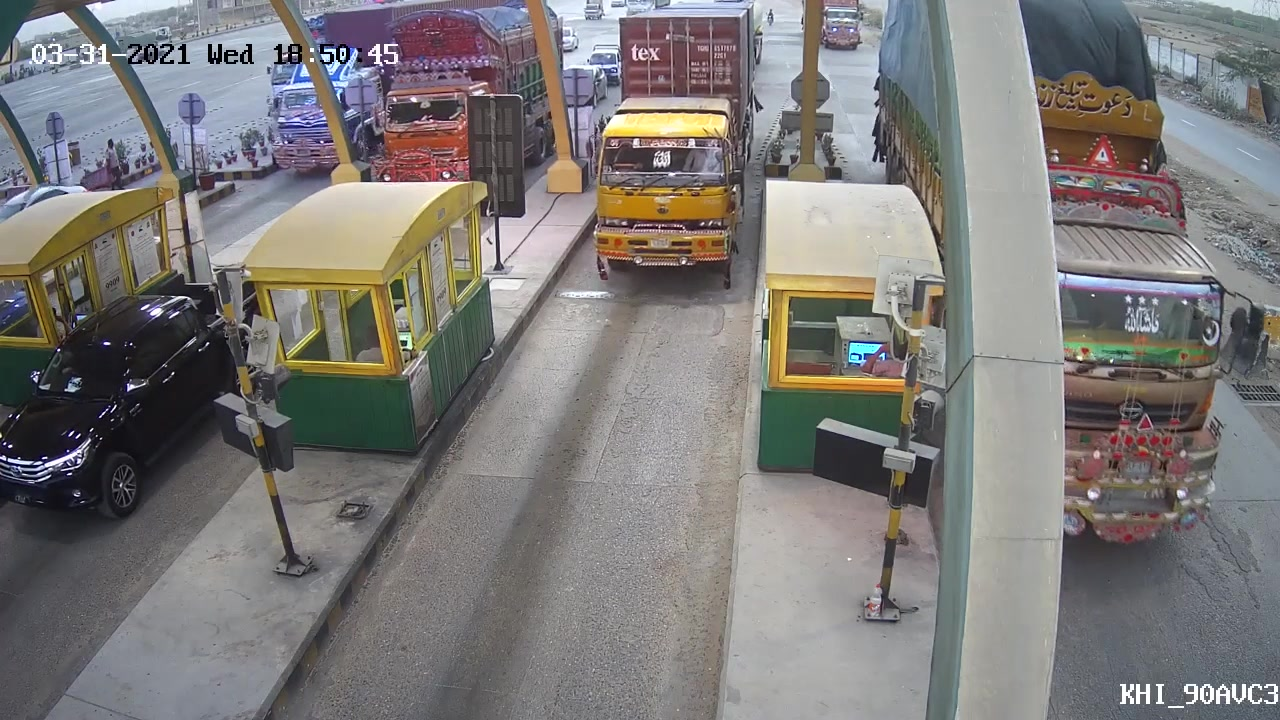F6: (579, 1, 764, 300)
